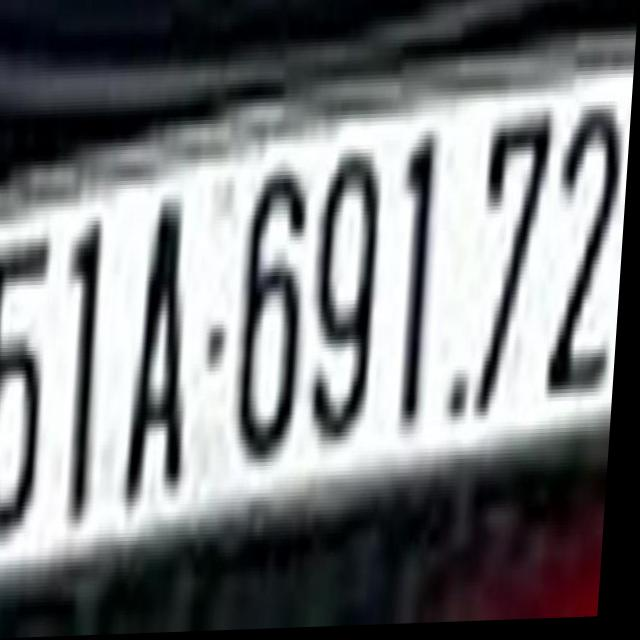1: (59, 225, 116, 544), (394, 138, 445, 422)
2: (550, 90, 633, 410)
5: (0, 231, 56, 554)
6: (239, 158, 314, 473)
7: (476, 115, 555, 424)
9: (312, 151, 386, 452)
A: (130, 191, 205, 500)
